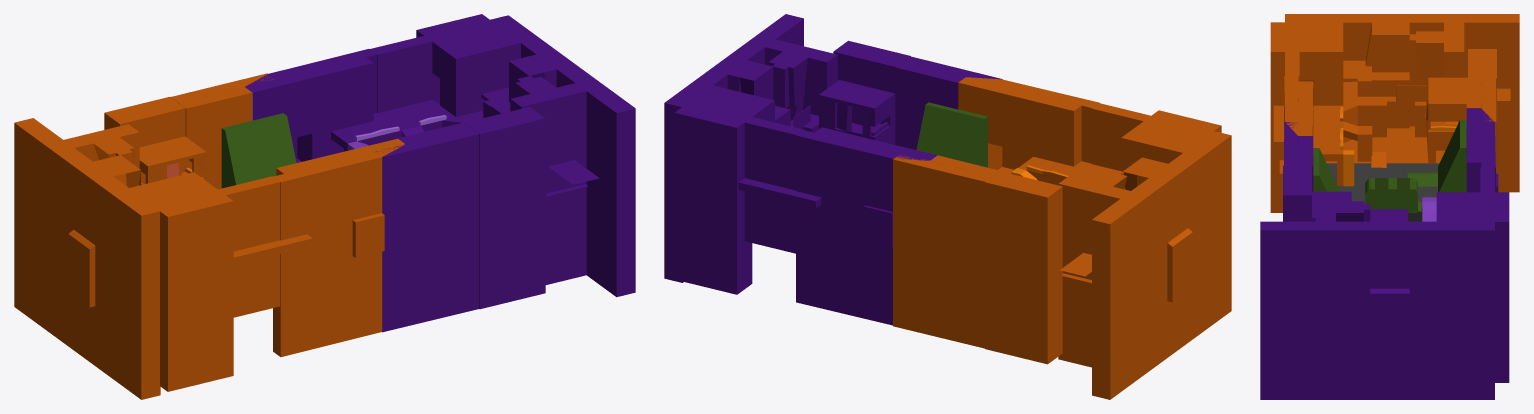
Rendered from Big Bass v3.glb.
3 views of the same model, side by side, from view 1: azimuth 30°, elevation 25°; view 2: azimuth 150°, elevation 25°; view 3: azimuth 270°, elevation 25° (orthographic). The views are drawn at different scales.
Parts seen in each view (by area): view 1: Cube.009, Cube.010; view 2: Cube.009, Cube.011; view 3: Cube.009, Cube.010, Cube.011.
Part boxes in pixels (x1=…): Cube.009: x1=14, y1=14, x2=635, y2=399; Cube.010: x1=221, y1=113, x2=296, y2=188; Cube.009: x1=664, y1=14, x2=1231, y2=399; Cube.011: x1=916, y1=102, x2=987, y2=167; Cube.009: x1=1260, y1=14, x2=1519, y2=399; Cube.010: x1=1438, y1=120, x2=1466, y2=192; Cube.011: x1=1313, y1=148, x2=1339, y2=191.
Size of the model in its own units: 159 by 56.93 by 78.92.
2 materials, 2 textured.
